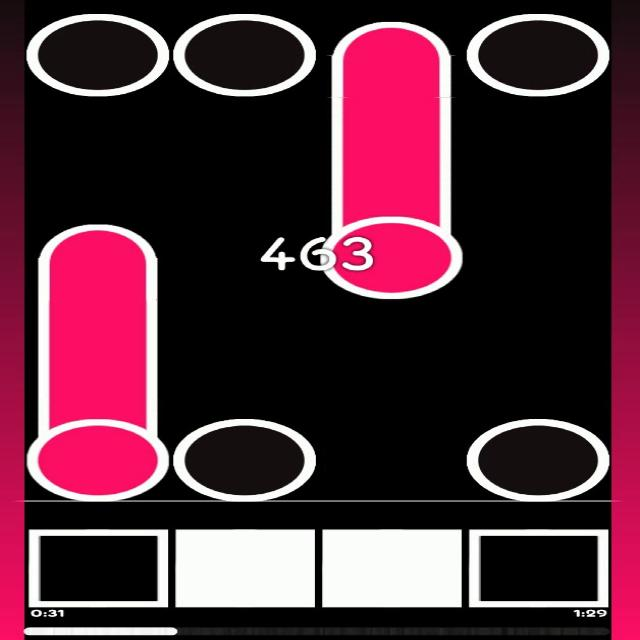end_hold: (330, 15, 454, 62), (34, 219, 163, 264)
note: (468, 416, 608, 503), (26, 12, 169, 96), (467, 15, 610, 99), (176, 12, 315, 98), (175, 418, 317, 500)
start_hold: (319, 198, 463, 301), (28, 398, 170, 499)
